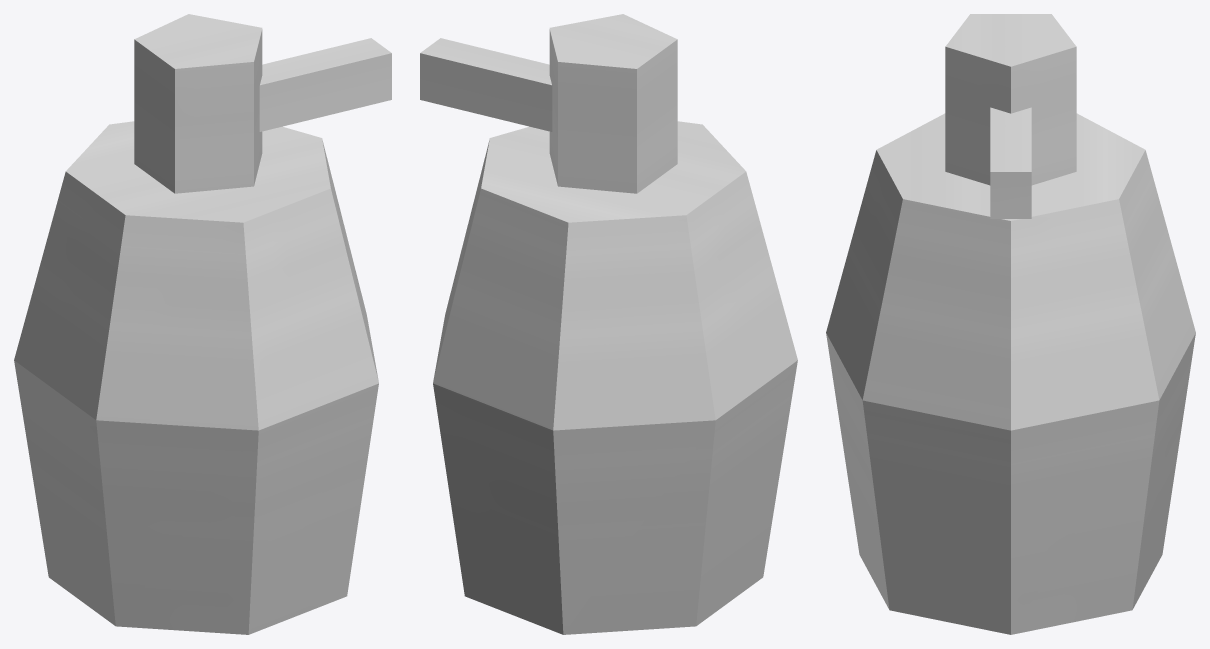
Rendered from grenade.obj.
3 views of the same model, side by side, from view 1: azimuth 30°, elevation 25°; view 2: azimuth 150°, elevation 25°; view 3: azimuth 270°, elevation 25° (orthographic).
Parts seen in each view (by area): view 1: grenade; view 2: grenade; view 3: grenade.
Part boxes in pixels (<box>): grenade: <box>14,14,391,634</box>; grenade: <box>420,14,797,634</box>; grenade: <box>826,14,1195,634</box>.
Size of the model in its own units: 0.1096 by 0.17 by 0.1072.
